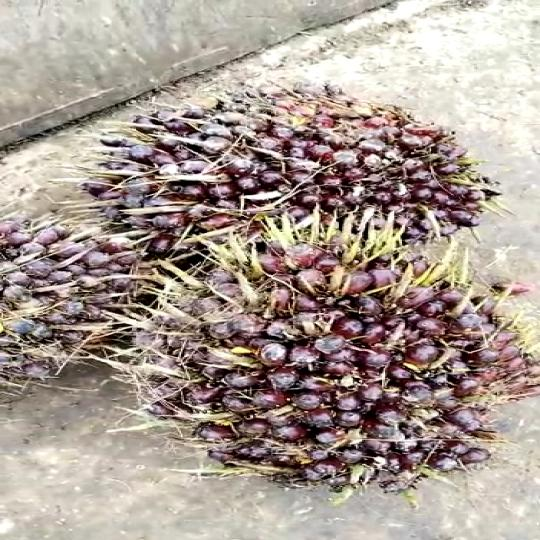kurang masak: (148, 219, 488, 516), (81, 71, 477, 255), (0, 198, 134, 394)
